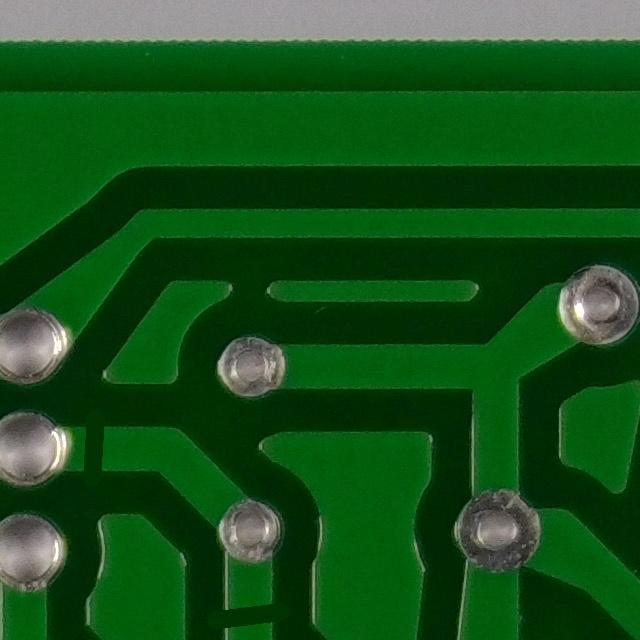open_circuit: (197, 587, 294, 640), (68, 409, 121, 486)
